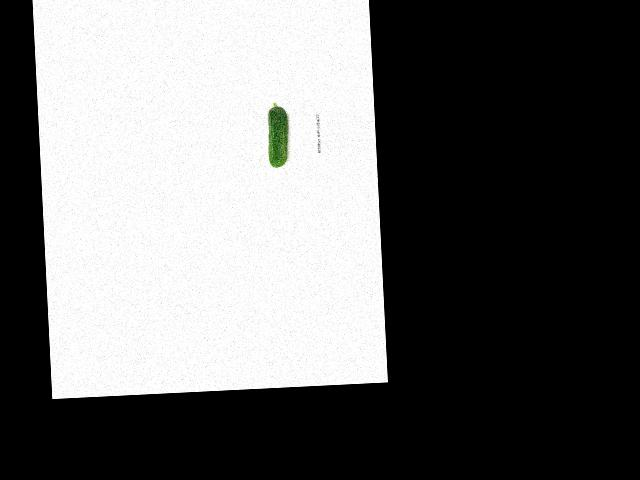cucumber: (266, 101, 289, 168)
